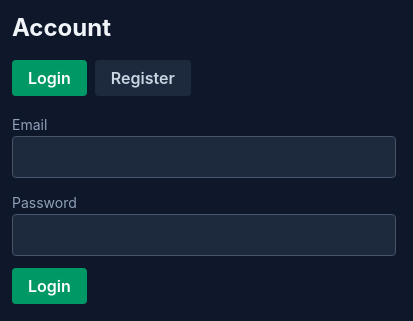
it: register › signs up and shows check-your-email when confirmation is pending
The image size is (413, 321).
Click the button "Register": (143, 78) [95,60,191,96]
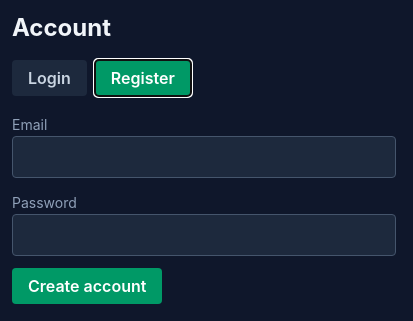
In the field labelled "Email": (204, 157) [12,136,396,178], type "new@example.com"
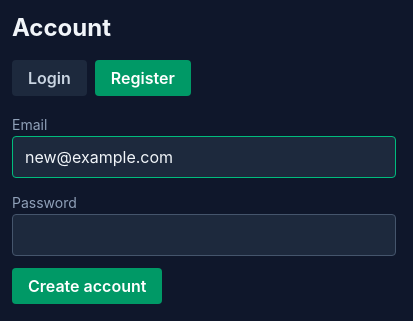
In the password field labelled "Password": (204, 235) [12,214,396,256], type "secret1"
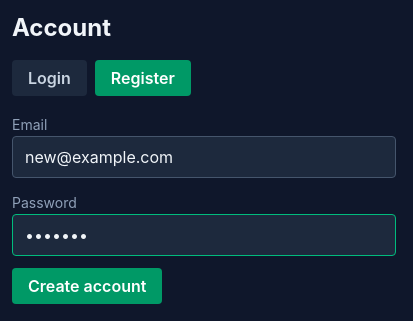
Click the button with test id "auth-submit": (87, 286) [12,268,162,304]
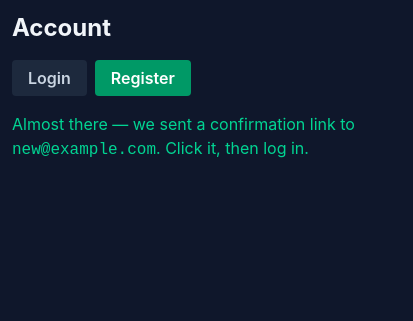
Check: the element with test id "auth-needs-confirmation" shows "new@example.com", box [12,141,156,159]
Check: the text labelled "Email" is gone
